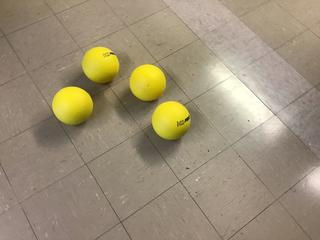power_cell: (51, 84, 95, 129), (151, 99, 196, 142), (82, 45, 122, 87), (127, 63, 168, 102)
